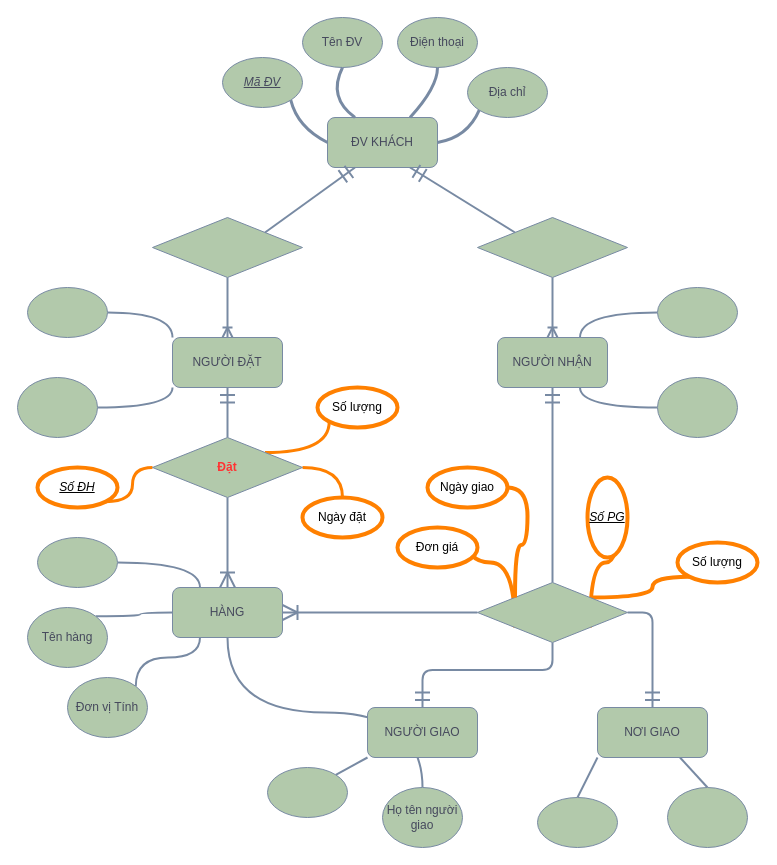
Image size: 777x865. Some labels were removed from this diagram. Here are the shapes that lost their labels. From the top down, the centre of each, then its label:
At point (227, 247): "Thuộc 1".
At point (552, 247): "Thuộc 2".
At point (67, 312): "Mã Số NĐ".
At point (697, 312): "Mã Số NN".
At point (57, 407): "Họ Tên NĐ".
At point (697, 407): "Họ Tên NN".
At point (77, 562): "Mã Hàng".
At point (552, 612): "Giao".
At point (307, 792): "Mã Số NG".
At point (577, 822): "Mã Số ĐĐG".
At point (707, 817): "Địa điểm giao".
